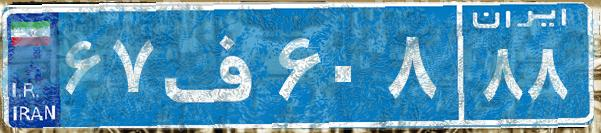0: (330, 28, 385, 110)
6: (273, 28, 330, 110), (57, 26, 110, 107)
7: (110, 28, 158, 105)
8: (385, 28, 445, 110), (475, 38, 525, 113), (525, 38, 570, 115)
ف: (158, 15, 273, 115)
